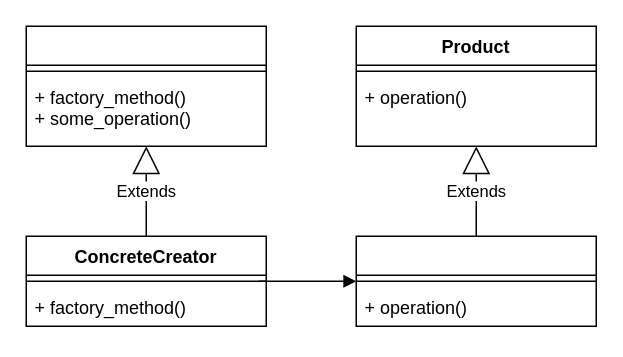
Some shapes in this 623 by 357 pixel diagram are drawn without their labels. The box of each missing label's shape, as (x1, y1, x2, y2) in pixels:
ConcreteProduct: (355, 235, 596, 326)
Creator: (25, 25, 266, 146)
